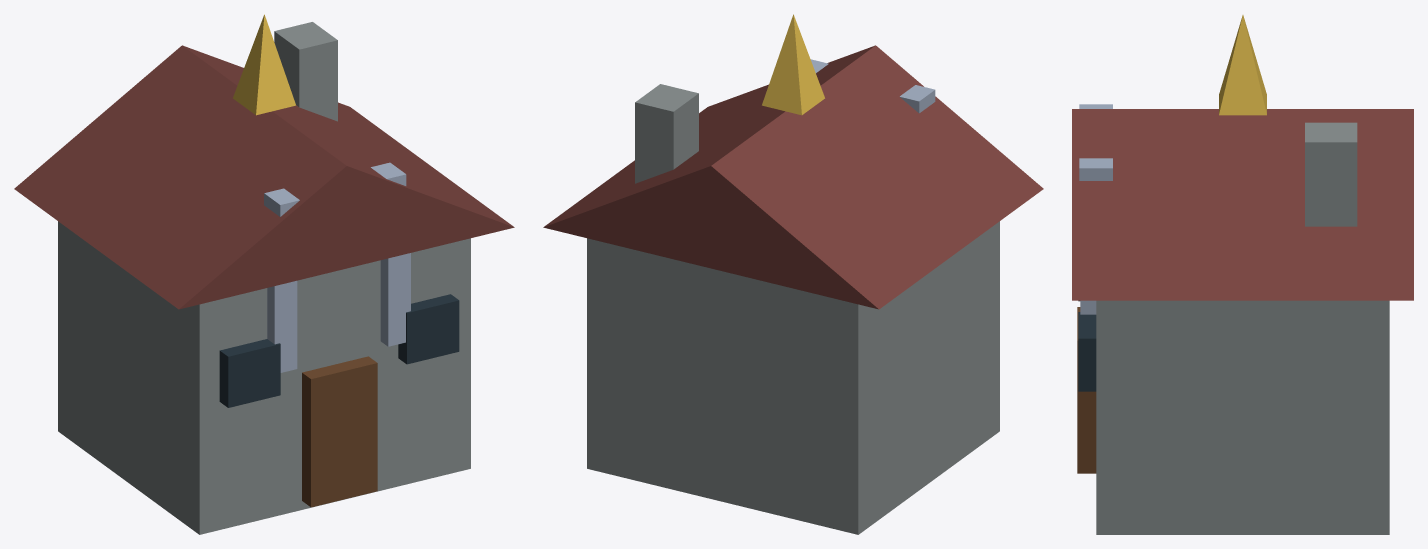
The model's file is civilian.obj.
The picture shows the model from 3 angles, left to right: view 1: azimuth 30°, elevation 25°; view 2: azimuth 150°, elevation 25°; view 3: azimuth 270°, elevation 25°; orthographic projection. The views are drawn at different scales.
Parts seen in each view (by area): view 1: civilian; view 2: civilian; view 3: civilian.
Part boxes in pixels (<box>): civilian: <box>14,14,514,534</box>; civilian: <box>543,14,1043,534</box>; civilian: <box>1072,15,1413,534</box>.
Size of the model in its own units: 1.92 by 2.38 by 1.63.
